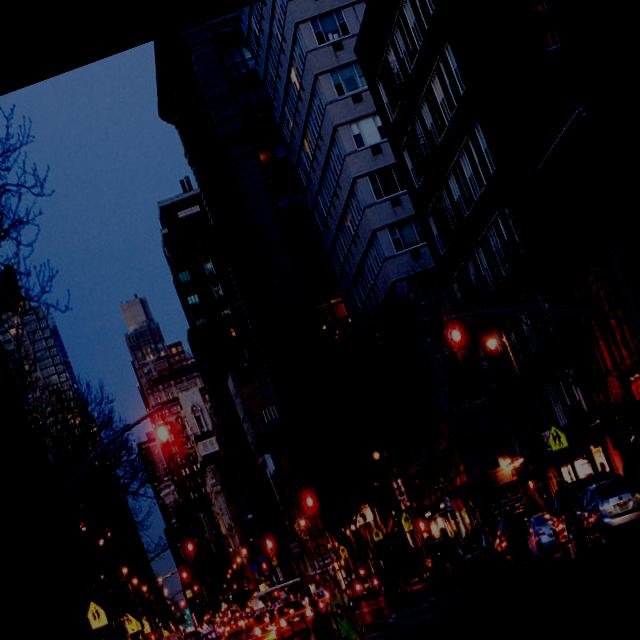Vehicle: (100, 476, 606, 640), (568, 467, 640, 555), (257, 566, 341, 612), (518, 510, 568, 567), (267, 594, 321, 640), (485, 517, 523, 575), (432, 533, 472, 583), (347, 566, 382, 603), (249, 608, 288, 640), (460, 540, 489, 576), (222, 614, 246, 640), (197, 625, 232, 640)
